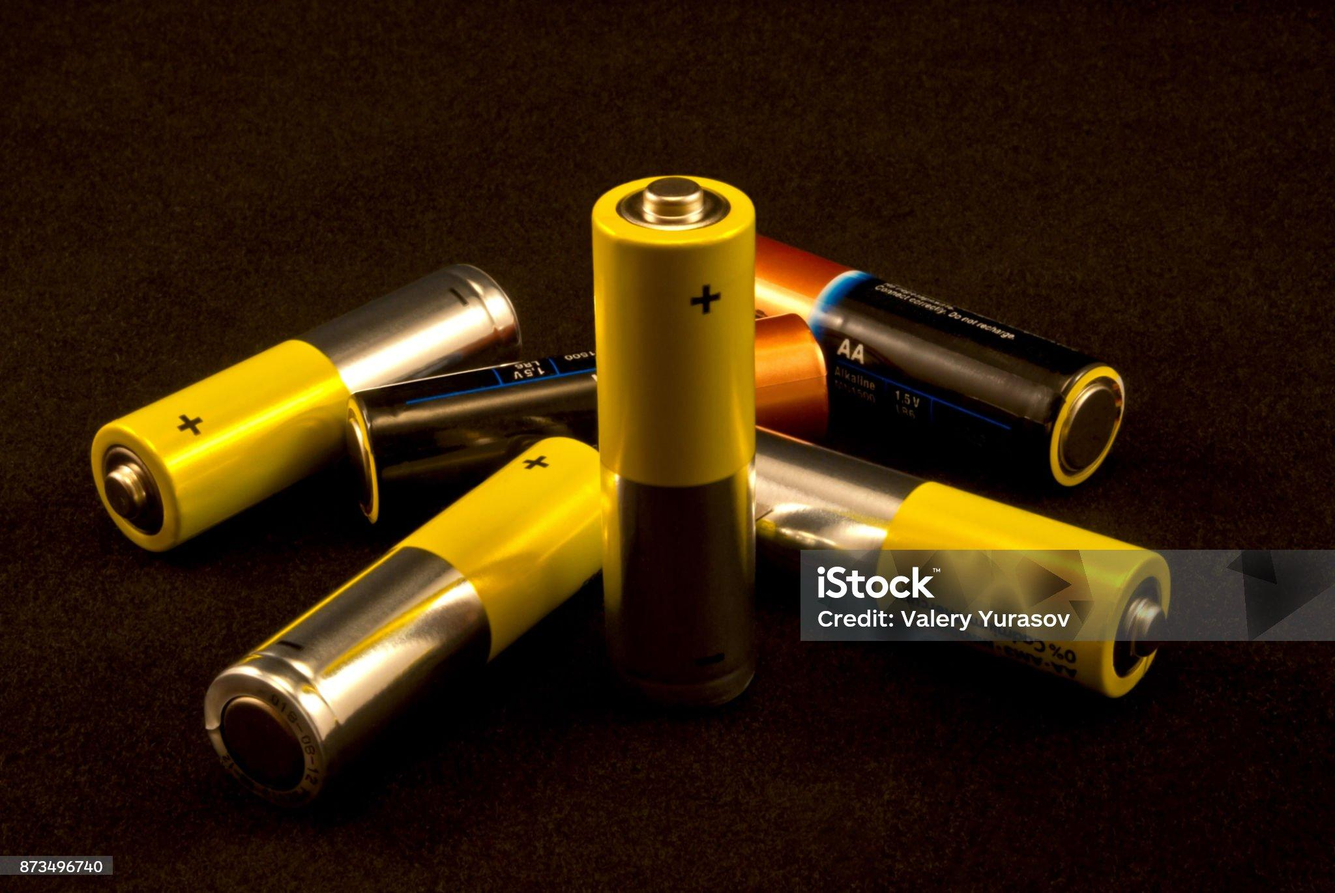battery: (183, 424, 636, 825), (42, 205, 524, 548), (557, 137, 804, 731), (661, 194, 1159, 432)
